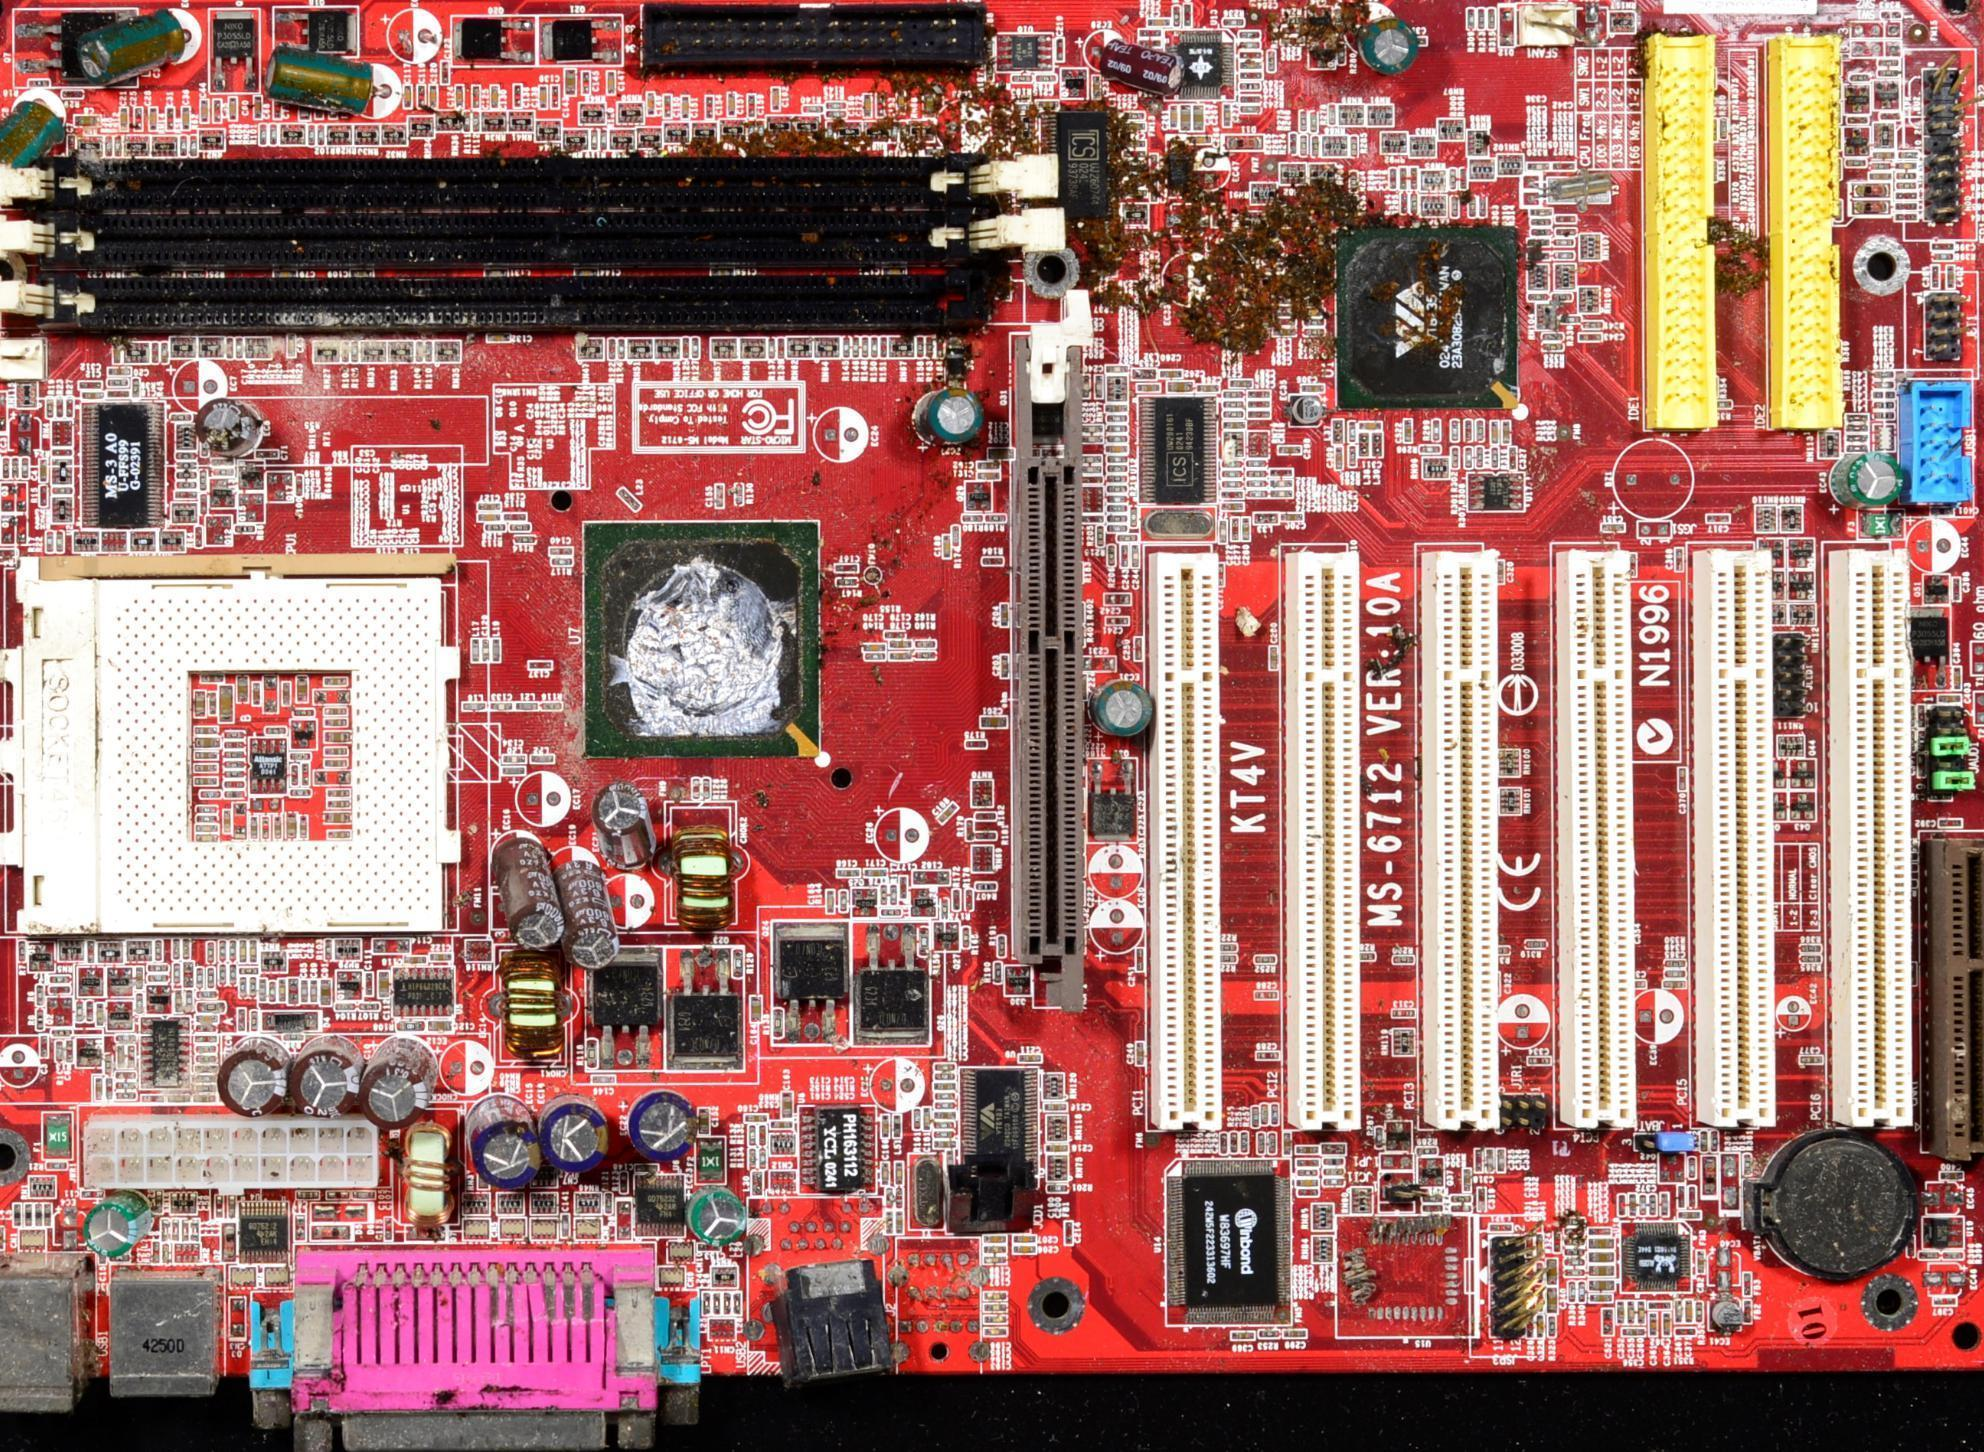Capacitor: (1872, 423, 1896, 450), (912, 869, 949, 886), (72, 113, 106, 129), (1587, 1278, 1618, 1293), (1599, 1309, 1614, 1340), (605, 69, 619, 100), (376, 970, 389, 999), (1089, 71, 1103, 100), (1587, 1247, 1616, 1261), (985, 446, 1017, 459), (1587, 1235, 1614, 1249), (703, 93, 718, 117), (979, 715, 1010, 727), (1588, 1263, 1614, 1276), (319, 978, 331, 1007), (779, 1091, 794, 1117), (427, 83, 440, 108), (416, 84, 429, 109), (1164, 104, 1178, 129), (1222, 104, 1235, 130), (1054, 35, 1066, 62), (698, 1107, 710, 1133), (565, 69, 578, 96), (1192, 103, 1205, 130), (1104, 593, 1131, 605), (1676, 766, 1686, 794), (1484, 1148, 1495, 1174), (550, 84, 563, 110), (454, 85, 466, 110), (1673, 1299, 1685, 1324), (1659, 1312, 1672, 1337), (252, 95, 265, 120), (146, 108, 158, 132), (1933, 816, 1961, 827), (428, 1021, 456, 1032), (402, 82, 413, 109), (227, 96, 237, 123), (837, 867, 860, 879), (1588, 1225, 1612, 1238), (1615, 1299, 1627, 1323), (680, 95, 691, 119), (1553, 160, 1576, 172), (1248, 408, 1271, 421), (941, 535, 954, 557), (888, 648, 911, 660), (1252, 989, 1278, 999), (1009, 1243, 1035, 1254), (982, 1292, 1009, 1303), (1588, 1293, 1615, 1304), (1648, 1311, 1659, 1336), (981, 1326, 1007, 1337), (1184, 2, 1195, 27), (477, 500, 503, 511), (1704, 513, 1730, 524), (878, 1113, 889, 1138), (980, 1233, 1005, 1244), (512, 84, 522, 109), (1645, 1301, 1669, 1312), (1407, 165, 1417, 190), (1893, 211, 1917, 221), (1929, 261, 1939, 287), (1137, 382, 1159, 394), (1277, 444, 1302, 454), (1335, 445, 1346, 469), (1220, 487, 1244, 497), (1119, 545, 1130, 567), (1104, 616, 1129, 627), (1131, 636, 1142, 661), (1268, 644, 1279, 668), (1937, 693, 1961, 704), (1795, 1053, 1823, 1063), (632, 1164, 659, 1173), (881, 1160, 890, 1187), (180, 108, 194, 127), (1218, 519, 1228, 546), (982, 1255, 1006, 1266), (725, 93, 736, 116), (1271, 487, 1294, 497), (1223, 500, 1246, 511), (1148, 17, 1171, 27), (479, 639, 490, 662), (592, 1074, 617, 1084), (1474, 1147, 1483, 1174), (980, 1315, 1006, 1324), (167, 105, 176, 131), (1299, 383, 1325, 393), (976, 460, 1003, 470), (1601, 523, 1626, 533), (105, 365, 135, 373), (1462, 1169, 1473, 1191), (1476, 1188, 1487, 1211), (770, 87, 781, 109), (1530, 208, 1551, 218), (1169, 380, 1191, 391), (1498, 1146, 1507, 1170), (1621, 1328, 1645, 1336), (1181, 105, 1190, 130), (1929, 238, 1953, 248), (1579, 332, 1603, 342), (1872, 389, 1896, 399), (1357, 420, 1381, 430), (1489, 419, 1499, 443), (976, 469, 1001, 479), (714, 483, 724, 508), (998, 602, 1008, 626), (1001, 654, 1010, 679), (489, 700, 513, 710), (1238, 81, 1258, 92), (248, 939, 257, 963), (403, 955, 427, 964), (364, 971, 372, 994), (1663, 981, 1687, 990), (1389, 1007, 1413, 1017), (1526, 1056, 1550, 1066), (1011, 72, 1033, 82), (1045, 1102, 1067, 1112), (1044, 1143, 1067, 1151), (559, 1215, 569, 1238), (470, 81, 479, 105), (1636, 1300, 1645, 1322), (646, 92, 654, 115), (663, 93, 672, 116), (201, 100, 209, 123), (133, 106, 142, 129), (118, 106, 128, 130), (1894, 190, 1918, 198), (1944, 266, 1953, 289), (286, 335, 295, 358), (1229, 378, 1252, 386), (1248, 398, 1271, 407), (1403, 418, 1413, 440), (1501, 421, 1509, 444), (1270, 478, 1292, 487), (1675, 548, 1684, 571), (309, 977, 318, 1004), (981, 1305, 1007, 1314), (834, 563, 859, 571), (932, 1129, 953, 1138), (934, 1140, 955, 1149), (1064, 1221, 1073, 1242), (488, 83, 498, 105), (1896, 200, 1917, 210), (1508, 448, 1518, 469), (1953, 667, 1962, 688), (863, 869, 888, 876), (299, 979, 307, 1004), (1018, 1054, 1043, 1062), (862, 92, 871, 117), (1160, 369, 1185, 377), (1105, 445, 1129, 452), (255, 449, 280, 458), (1952, 576, 1960, 600), (1137, 27, 1161, 36), (889, 641, 913, 648), (1034, 73, 1054, 82), (922, 1108, 932, 1129), (933, 1120, 953, 1128), (1625, 1300, 1635, 1320), (1685, 1300, 1694, 1320), (81, 380, 101, 389), (1225, 421, 1244, 430), (1272, 468, 1293, 477), (899, 874, 907, 897), (238, 940, 246, 963), (933, 1111, 957, 1120), (1231, 518, 1239, 540), (549, 546, 572, 555), (1497, 561, 1505, 583), (1917, 703, 1925, 726), (429, 953, 452, 961), (932, 1081, 954, 1089), (982, 1244, 1005, 1252), (1896, 162, 1917, 169), (1248, 389, 1270, 397), (1106, 403, 1128, 411), (1280, 513, 1302, 521), (1242, 517, 1250, 539), (1131, 547, 1139, 568), (827, 889, 834, 914), (215, 99, 222, 124), (1917, 731, 1925, 752), (538, 86, 546, 107), (745, 93, 754, 112), (1528, 161, 1548, 170), (1198, 385, 1218, 392), (1919, 754, 1926, 778), (744, 1116, 767, 1123), (580, 72, 588, 91), (1016, 1235, 1035, 1242), (1400, 166, 1407, 190), (109, 389, 128, 398), (83, 391, 102, 398)
Connector: (3, 259, 1046, 343), (0, 150, 1066, 209), (3, 209, 1077, 259), (1824, 549, 1914, 1127), (1013, 335, 1088, 997), (1691, 552, 1775, 1122), (1554, 549, 1636, 1131), (1421, 548, 1501, 1125), (1286, 553, 1358, 1126), (1151, 553, 1222, 1130), (1644, 32, 1717, 416), (1775, 32, 1839, 423), (1937, 834, 1983, 1155)
IC: (1168, 1164, 1290, 1327), (81, 403, 166, 528), (1135, 395, 1215, 503), (796, 1104, 877, 1194), (958, 1068, 1037, 1157), (1619, 1220, 1691, 1294), (1166, 29, 1233, 99), (631, 1174, 685, 1238), (392, 967, 456, 1018), (237, 1203, 289, 1262), (996, 33, 1053, 72), (1922, 1215, 1967, 1247)
Resistor: (1577, 319, 1603, 331), (1523, 936, 1548, 949), (550, 555, 574, 566), (358, 1003, 380, 1014), (953, 524, 964, 549), (973, 810, 998, 821), (26, 77, 51, 87), (1416, 1145, 1441, 1157), (1898, 150, 1919, 161), (925, 336, 936, 361), (514, 533, 539, 544), (396, 1021, 423, 1030), (333, 1000, 356, 1010), (61, 89, 84, 100), (1288, 133, 1298, 155), (1348, 135, 1359, 158), (1894, 172, 1918, 183), (1307, 111, 1318, 131), (1297, 136, 1309, 155), (1467, 6, 1475, 32), (965, 888, 975, 910), (757, 1150, 767, 1171), (1944, 1251, 1965, 1261), (1675, 1327, 1696, 1338), (1325, 104, 1336, 126), (1298, 108, 1309, 130), (589, 127, 599, 148), (689, 337, 699, 359), (1873, 409, 1895, 420), (1246, 487, 1268, 498), (38, 485, 49, 506), (510, 522, 532, 532), (974, 832, 998, 841), (227, 939, 236, 964), (207, 941, 215, 966), (1918, 1250, 1942, 1259), (1416, 445, 1440, 454), (1348, 444, 1357, 468), (825, 111, 845, 121), (258, 125, 268, 145), (1387, 169, 1397, 190), (1526, 290, 1547, 300), (1873, 378, 1893, 388), (1347, 420, 1357, 441), (1171, 4, 1181, 25), (1107, 462, 1127, 472), (1247, 478, 1268, 488), (916, 649, 936, 659), (1237, 93, 1260, 102), (179, 136, 188, 158), (1400, 192, 1409, 215), (1538, 341, 1560, 350), (107, 377, 129, 386), (233, 524, 255, 533), (863, 652, 885, 661), (539, 701, 563, 710), (931, 1071, 956, 1080), (153, 941, 163, 960), (758, 1126, 767, 1147), (605, 1193, 614, 1215), (1448, 1202, 1470, 1212), (462, 111, 471, 132), (599, 129, 608, 151), (1556, 214, 1578, 223), (1556, 227, 1577, 236), (1532, 227, 1551, 237), (1552, 237, 1574, 246), (916, 336, 925, 357), (616, 337, 625, 359), (1873, 401, 1894, 409), (1475, 446, 1485, 468), (1222, 458, 1243, 466), (961, 513, 983, 522), (1106, 543, 1115, 565), (981, 556, 1003, 565), (1237, 29, 1259, 38), (1390, 955, 1414, 963), (1220, 953, 1236, 965), (933, 1092, 958, 1099), (932, 1101, 956, 1108), (189, 134, 197, 158), (1452, 445, 1460, 469), (1800, 943, 1821, 952), (324, 940, 332, 960), (801, 103, 821, 112), (1931, 251, 1951, 260), (869, 336, 878, 356), (680, 336, 689, 356), (131, 376, 140, 396), (1224, 391, 1244, 400), (46, 397, 55, 418), (1107, 414, 1128, 423), (1107, 424, 1128, 432), (1451, 420, 1460, 441), (1464, 447, 1472, 467), (1108, 455, 1128, 463), (1247, 457, 1267, 467), (1247, 469, 1268, 479), (1221, 477, 1241, 486), (1485, 9, 1494, 30), (1357, 954, 1374, 965), (953, 889, 961, 911), (838, 890, 846, 913), (1449, 1197, 1473, 1204), (1238, 104, 1262, 113), (1540, 332, 1563, 340), (424, 341, 432, 363), (55, 393, 63, 415), (1222, 409, 1244, 417), (1432, 418, 1440, 440), (1475, 418, 1484, 440), (1492, 445, 1500, 468), (1555, 249, 1573, 259), (415, 342, 424, 360), (1107, 434, 1126, 443), (1108, 483, 1126, 493), (838, 577, 857, 586), (966, 819, 973, 840), (879, 884, 888, 905), (996, 934, 1004, 956), (747, 1147, 755, 1169), (824, 102, 846, 109), (308, 123, 316, 145), (1894, 181, 1916, 190), (1531, 218, 1552, 226), (350, 341, 358, 362), (65, 396, 73, 418), (1463, 421, 1471, 442), (734, 482, 743, 503), (1130, 506, 1138, 528), (985, 515, 1006, 522), (486, 523, 508, 531), (1221, 17, 1243, 25), (1697, 1300, 1704, 1325), (619, 1173, 628, 1191), (976, 882, 997, 890), (1801, 953, 1820, 961), (1665, 959, 1685, 967), (217, 965, 225, 986), (250, 1011, 257, 1031), (933, 1063, 954, 1070), (913, 1109, 921, 1128), (748, 1125, 756, 1145), (1311, 135, 1319, 156), (1553, 292, 1572, 301), (776, 337, 784, 357), (339, 340, 347, 361), (1224, 402, 1244, 409), (993, 960, 1000, 983), (607, 338, 614, 357), (1221, 468, 1240, 476), (1108, 475, 1126, 482), (1108, 494, 1126, 502), (45, 531, 53, 549), (885, 629, 904, 637), (916, 639, 935, 646), (962, 925, 969, 947), (1238, 72, 1260, 79), (1048, 1184, 1069, 1191), (1412, 194, 1418, 215), (1476, 8, 1482, 29), (1096, 526, 1103, 548), (57, 530, 63, 551), (1241, 40, 1259, 48), (1240, 49, 1257, 57), (1874, 370, 1892, 377), (1266, 51, 1273, 71), (218, 942, 225, 962), (1255, 956, 1275, 963), (1665, 970, 1685, 976), (229, 966, 236, 986), (250, 978, 256, 997), (239, 979, 245, 1000), (317, 127, 324, 146), (843, 337, 849, 357), (853, 337, 860, 357), (1107, 514, 1127, 520), (1118, 534, 1138, 541), (1220, 942, 1236, 950), (194, 968, 202, 984), (172, 941, 179, 960), (206, 968, 213, 987), (473, 112, 479, 131), (769, 336, 774, 360), (182, 942, 189, 956), (881, 336, 886, 359), (890, 884, 897, 901), (862, 337, 869, 354), (1107, 524, 1125, 530), (1108, 505, 1126, 510)
Transistor: (770, 921, 848, 1046), (852, 921, 930, 1043), (587, 948, 666, 1070), (665, 947, 743, 1067), (537, 14, 623, 67), (208, 10, 260, 95), (451, 15, 538, 65), (272, 7, 358, 57), (1925, 574, 1950, 604)
